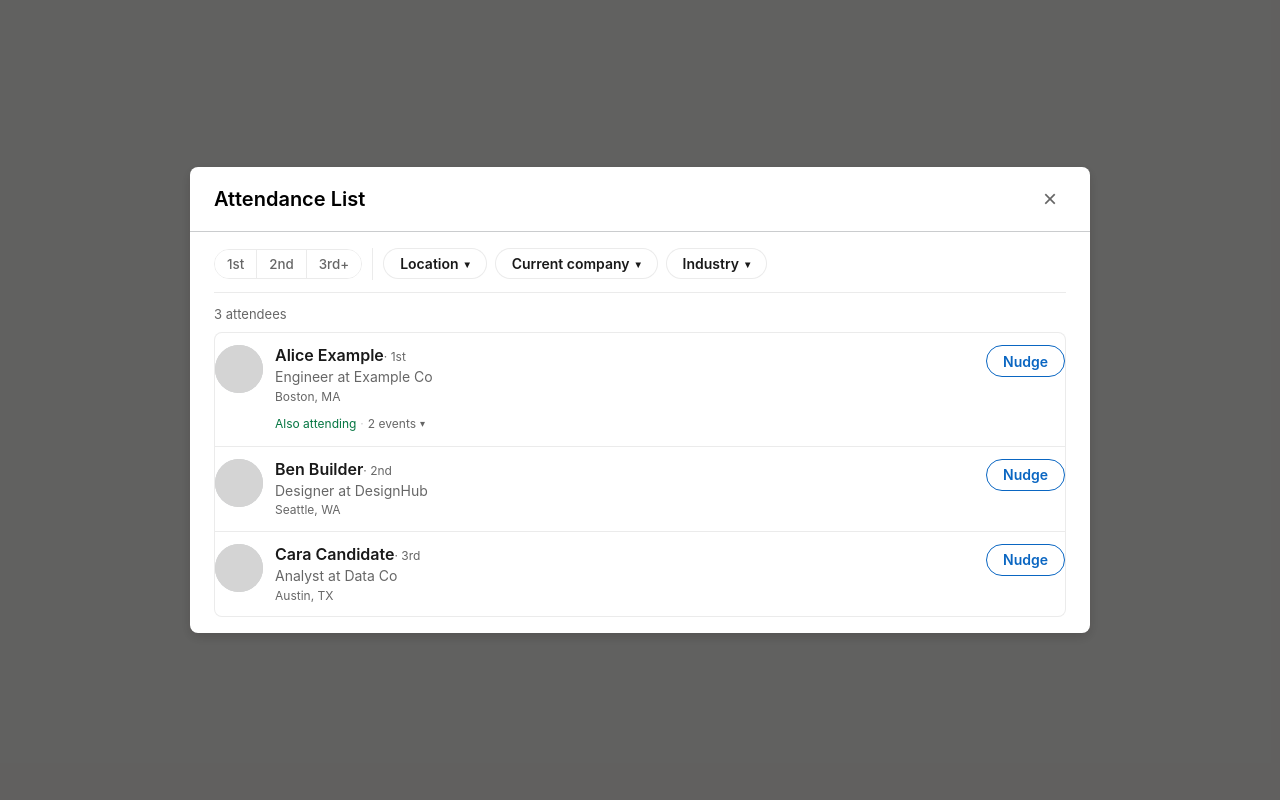
Scenario: AttendeeModal › filters attendees by connection degree
Click the button "1st": (236, 264) [215,250,256,278]
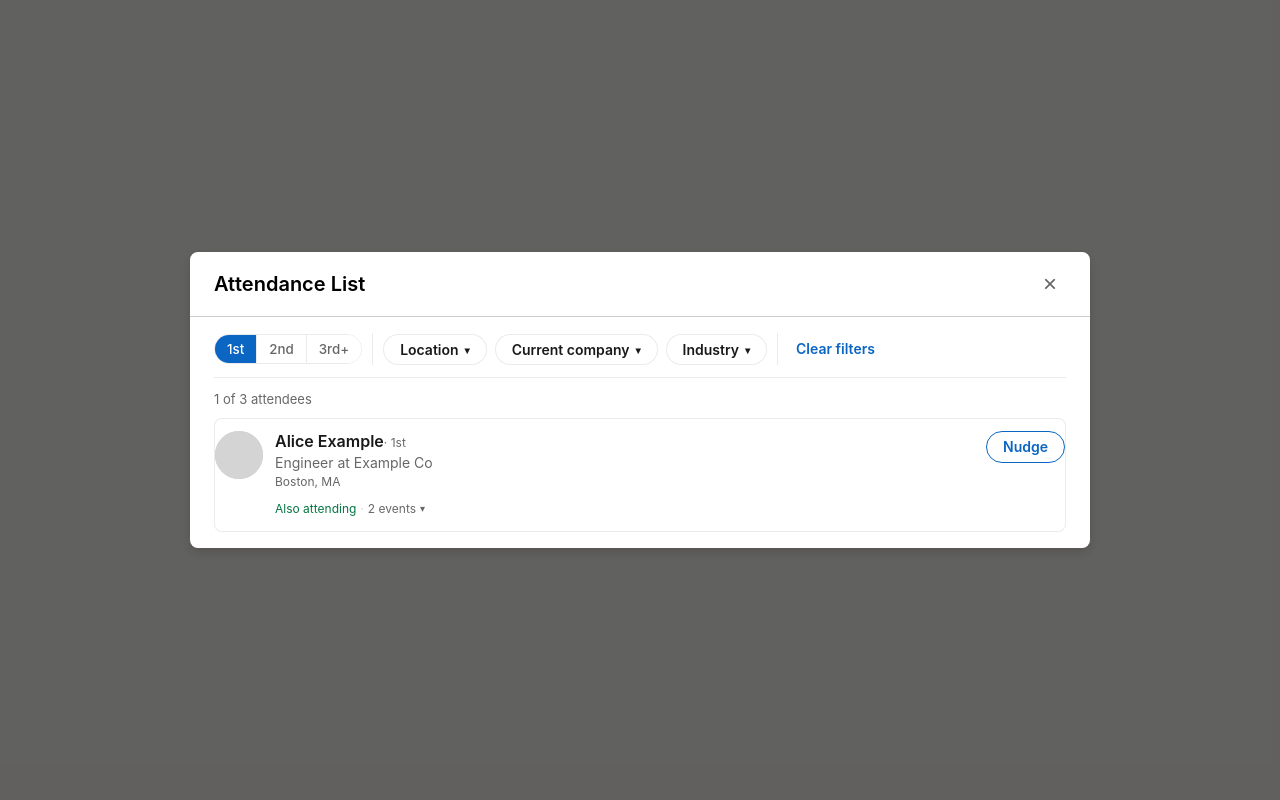
Expected: the text "Alice Example" is shown, [275,430,384,450]
Now the text "Ben Builder" is gone
Now the text "Cara Candidate" is gone
Click the button "2nd": (281, 349) [256,335,306,363]
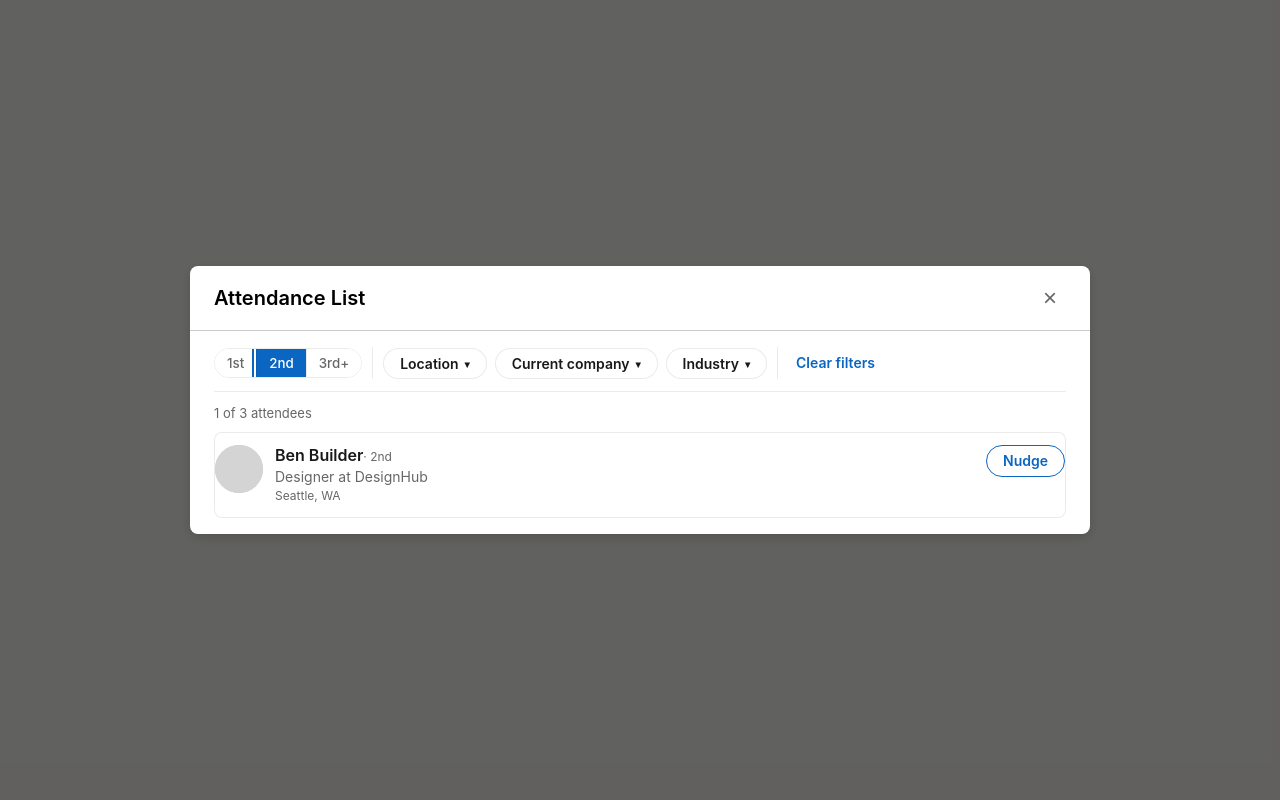
Expected: the text "Cara Candidate" is not shown
Now the text "Alice Example" is gone
Now the text "Ben Builder" is shown, box [275,444,363,464]
Click the button "3rd+": (333, 363) [306,349,361,377]
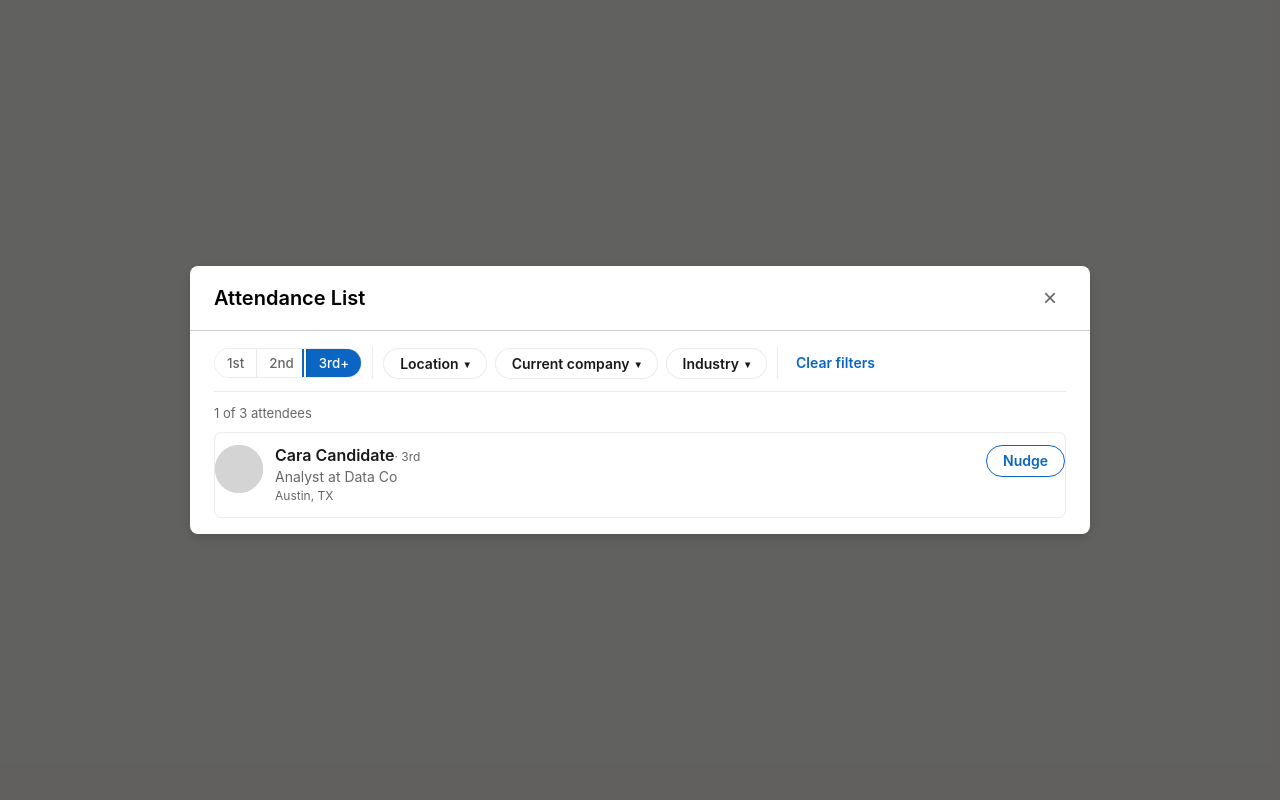
Expected: the text "Alice Example" is not shown
Now the text "Ben Builder" is gone
Now the text "Cara Candidate" is shown, box [275,444,394,464]
